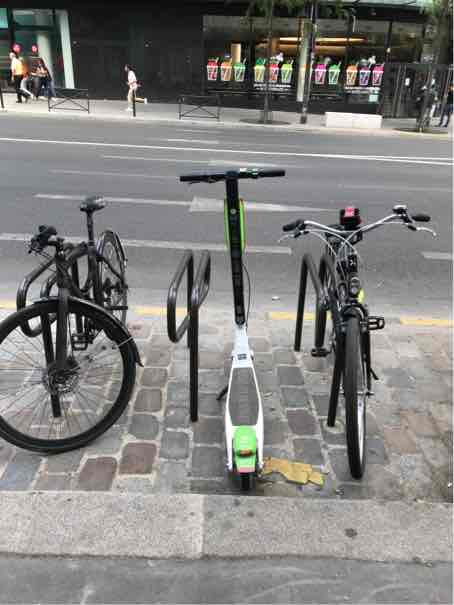scooter: (172, 157, 294, 484)
